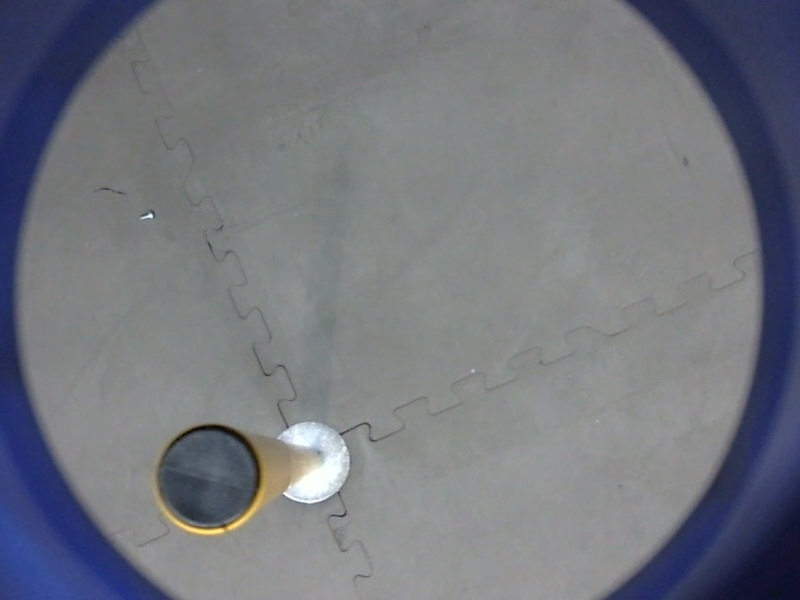tip: (146, 417, 269, 541)
